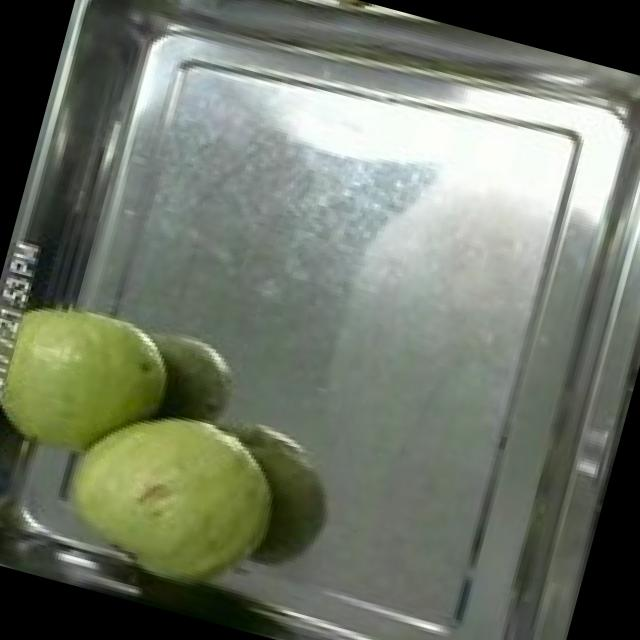Fruit: (27, 374, 306, 630), (0, 275, 193, 483)
